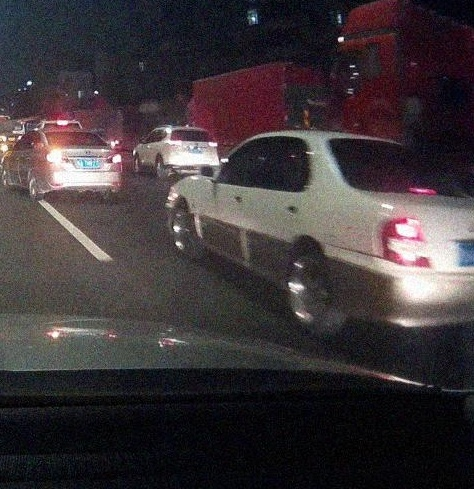L_light: (44, 152, 67, 164), (168, 141, 181, 147)
R_light: (106, 152, 122, 164), (208, 142, 218, 148)
T_light: (69, 131, 83, 135), (186, 128, 197, 133)
night-left: (42, 128, 122, 199)
night-no: (165, 126, 219, 180)
